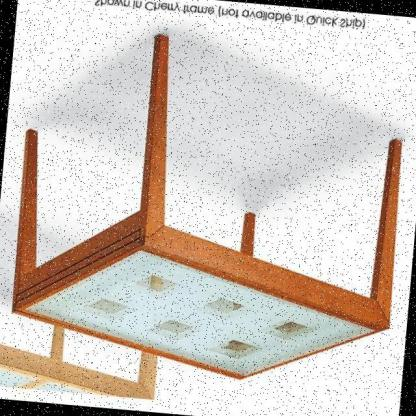Table: (0, 13, 416, 400)
